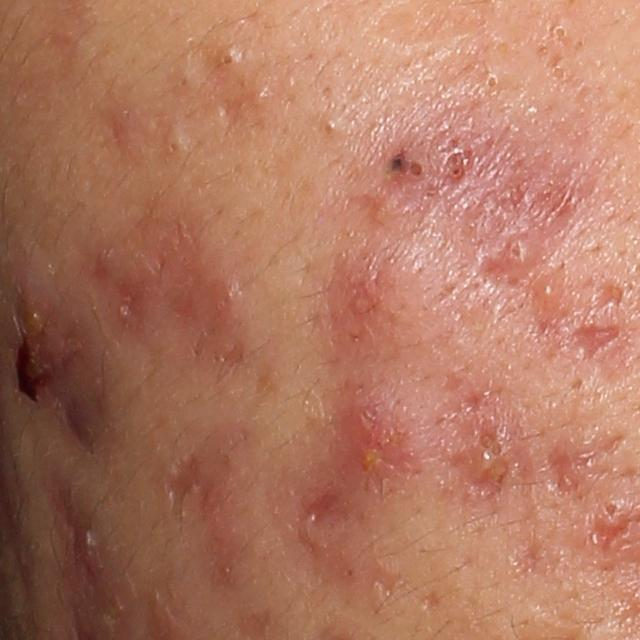atrophic_scar: (368, 95, 586, 233), (75, 197, 244, 351), (287, 485, 349, 561), (159, 440, 211, 523), (180, 36, 243, 101), (562, 321, 630, 377), (211, 84, 281, 130), (546, 441, 594, 501), (366, 560, 414, 611), (418, 589, 441, 611)
comedo: (159, 122, 198, 166), (217, 41, 249, 75), (552, 24, 569, 45), (321, 117, 335, 139), (486, 71, 501, 90)
nodule: (7, 246, 110, 451)
papule: (435, 129, 475, 186), (532, 272, 573, 318), (497, 232, 539, 276)
